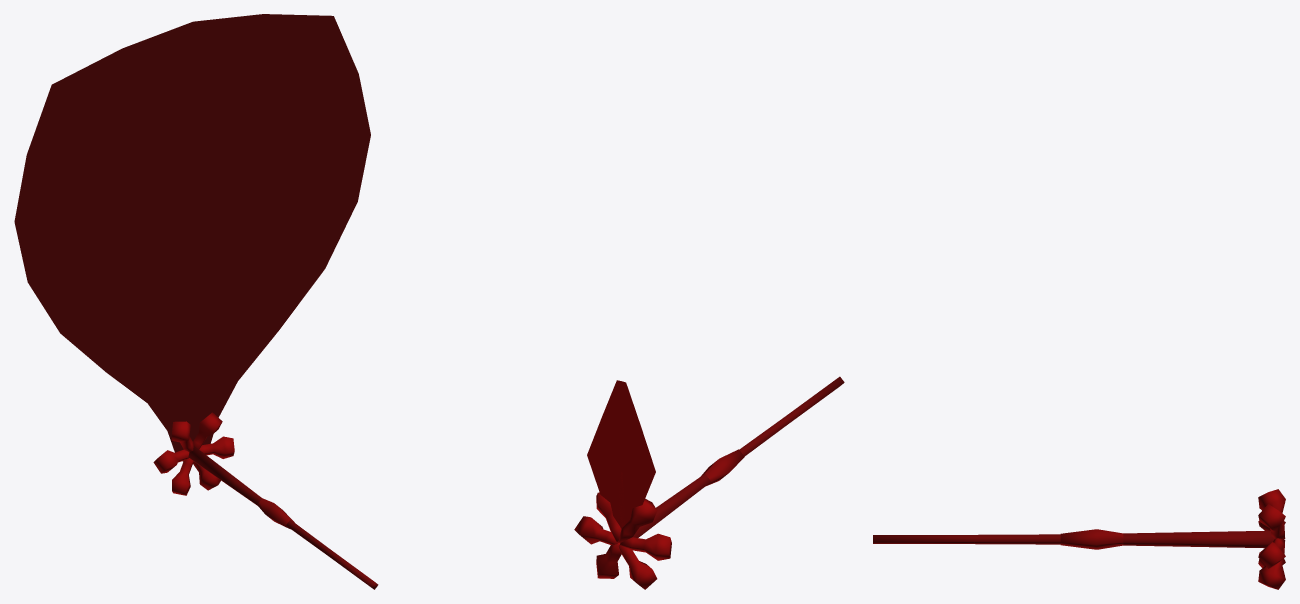
The model's file is hibiscus.gltf.
3 renders of one model, left to right at view 1: azimuth 30°, elevation 25°; view 2: azimuth 150°, elevation 25°; view 3: azimuth 270°, elevation 25°, orthographic. The views are drawn at different scales.
Visible parts, largest first — view 1: petal, stamen_ring, stamen_center, stamen_top; view 2: bud_inner, stamen_ring, stamen_center, stamen_top; view 3: stamen_center, stamen_ring, stamen_top.
Boxes of the visible parts, box(x1,y1,x2,y2) form: petal: box(14, 14, 370, 461); stamen_ring: box(153, 412, 234, 495); stamen_center: box(188, 446, 378, 589); stamen_top: box(257, 498, 294, 529); bud_inner: box(587, 380, 655, 528); stamen_ring: box(574, 492, 671, 589); stamen_center: box(633, 376, 844, 537); stamen_top: box(701, 449, 744, 486); stamen_center: box(873, 530, 1274, 548); stamen_ring: box(1258, 489, 1285, 589); stamen_top: box(1060, 529, 1123, 549).
Size of the model in its own units: 0.0793 by 0.0995 by 0.0713.
